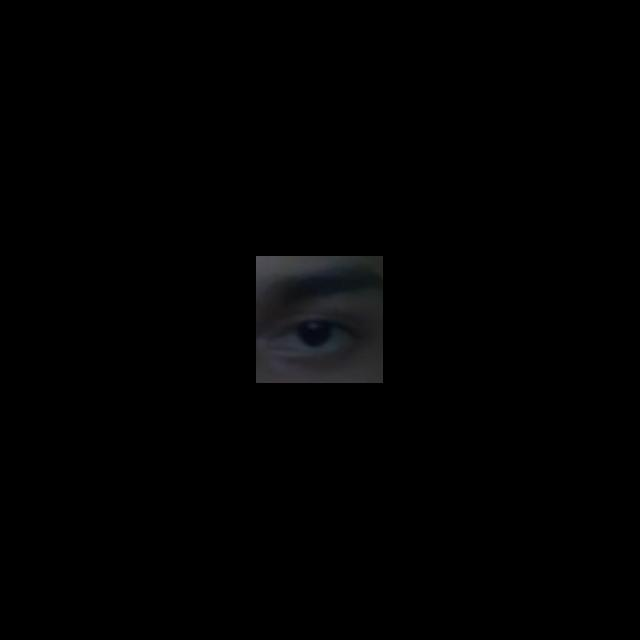eye: (290, 321, 352, 349)
iris: (300, 323, 332, 346)
